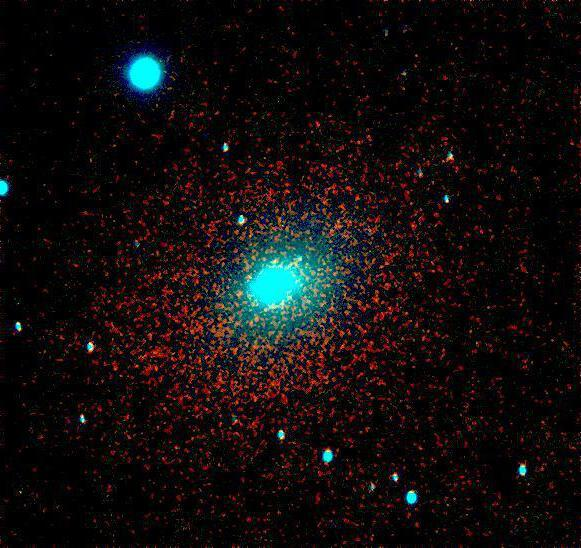star: (252, 293, 282, 323)
